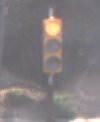Red: (40, 14, 66, 82)
